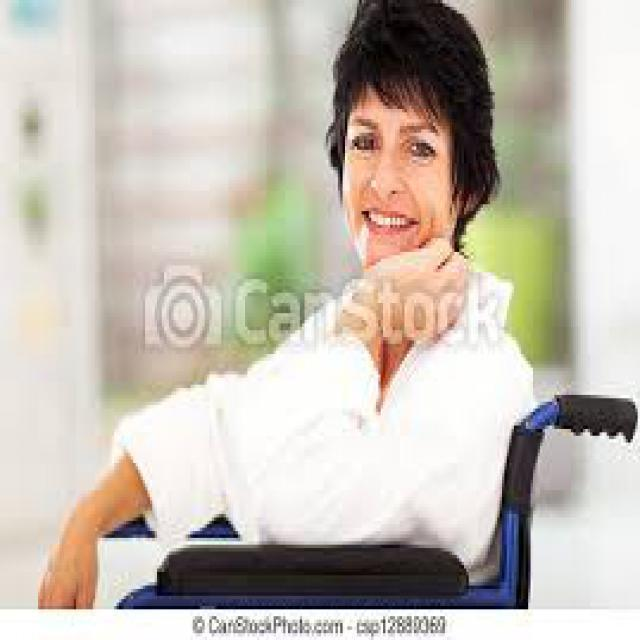wheelchairs: (88, 388, 638, 609)
